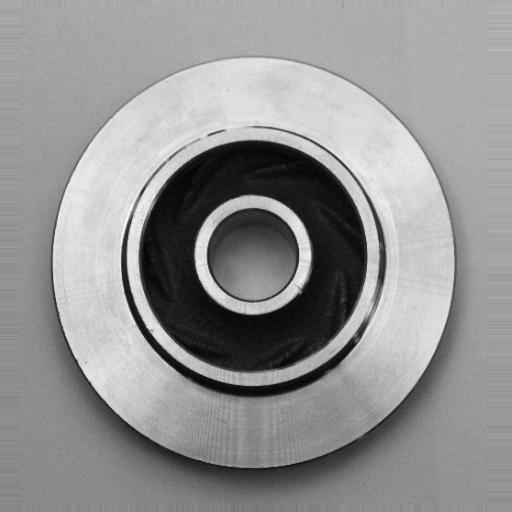scratch: (178, 111, 276, 148)
unpolished_casting: (48, 54, 460, 475)
